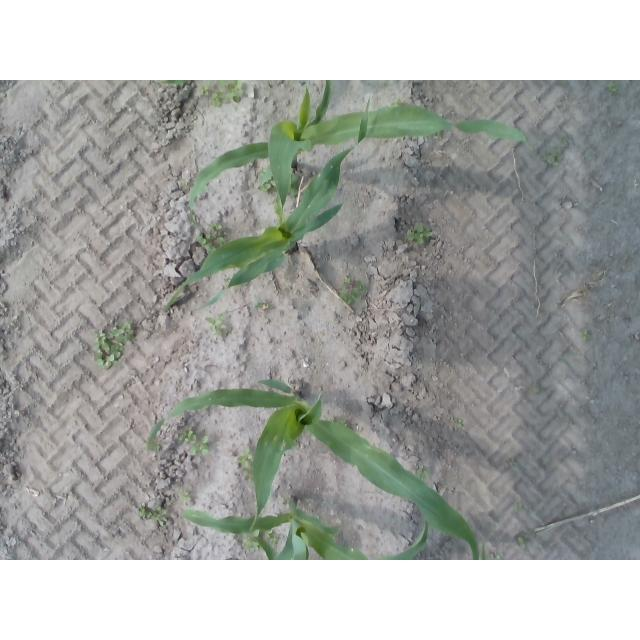Maize: (146, 378, 480, 560), (190, 80, 531, 228), (164, 96, 368, 312), (179, 496, 429, 561)
Weeds: (95, 322, 134, 367), (410, 225, 434, 245), (219, 81, 242, 101), (343, 287, 362, 306), (191, 435, 210, 454), (209, 317, 227, 336), (141, 506, 167, 519), (258, 173, 273, 192), (237, 447, 252, 466), (545, 149, 564, 163), (607, 81, 617, 95), (181, 431, 195, 441), (245, 541, 259, 550), (269, 530, 279, 542), (210, 95, 222, 105), (518, 534, 527, 545), (199, 88, 209, 97), (418, 468, 427, 477), (514, 503, 522, 513), (505, 459, 516, 466), (393, 99, 404, 106), (582, 331, 590, 340), (454, 419, 462, 428), (563, 137, 571, 146)
